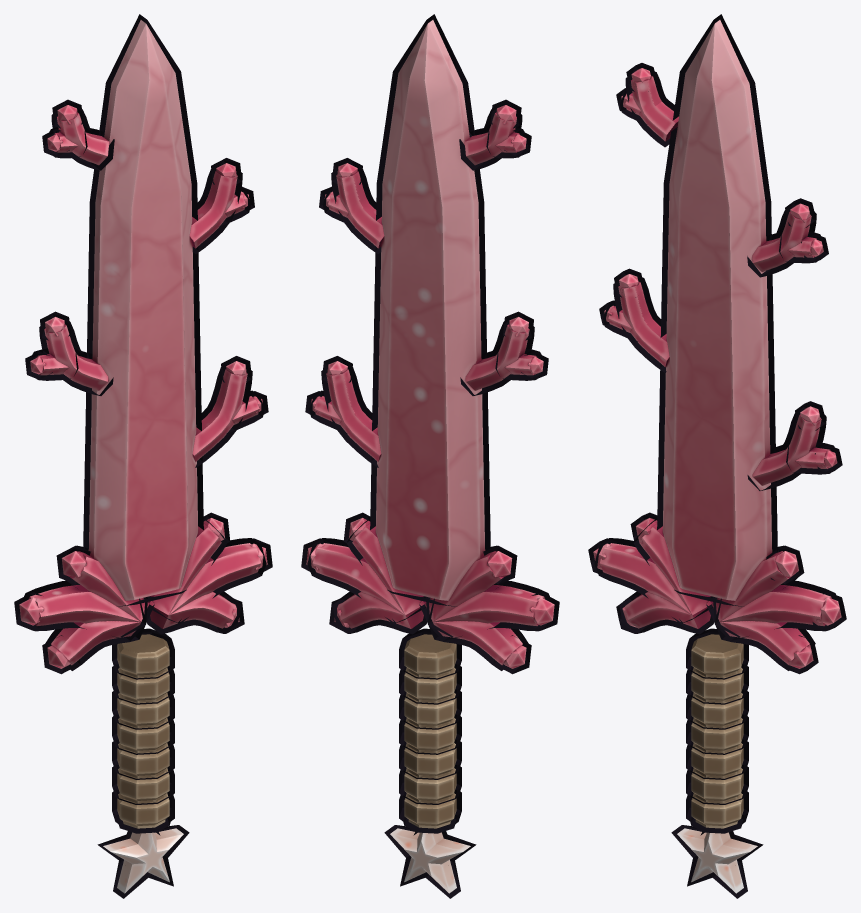
The model's file is CoralSword.fbx.
The picture shows the model from 3 angles, left to right: view 1: azimuth 30°, elevation 25°; view 2: azimuth 150°, elevation 25°; view 3: azimuth 330°, elevation 25°; orthographic projection.
Parts seen in each view (by area): view 1: CoralSword, CoralSwordOutline; view 2: CoralSword, CoralSwordOutline; view 3: CoralSword, CoralSwordOutline.
Boxes of the visible parts, x1,y1,x2,y2 form: CoralSword: [19, 20, 267, 893]; CoralSwordOutline: [14, 14, 272, 898]; CoralSword: [306, 20, 554, 893]; CoralSwordOutline: [301, 14, 559, 898]; CoralSword: [593, 20, 841, 893]; CoralSwordOutline: [588, 14, 846, 898].
Size of the model in its own units: 112 by 367 by 24.81.
2 materials, 1 textured.
